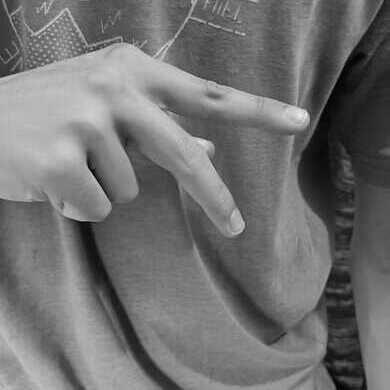P: (1, 41, 311, 239)
